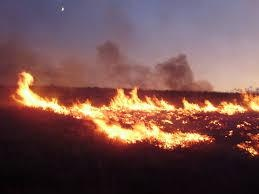fire: (0, 82, 242, 152)
